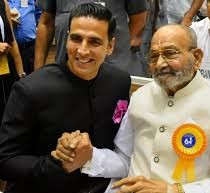Bad: (1, 2, 210, 193)
